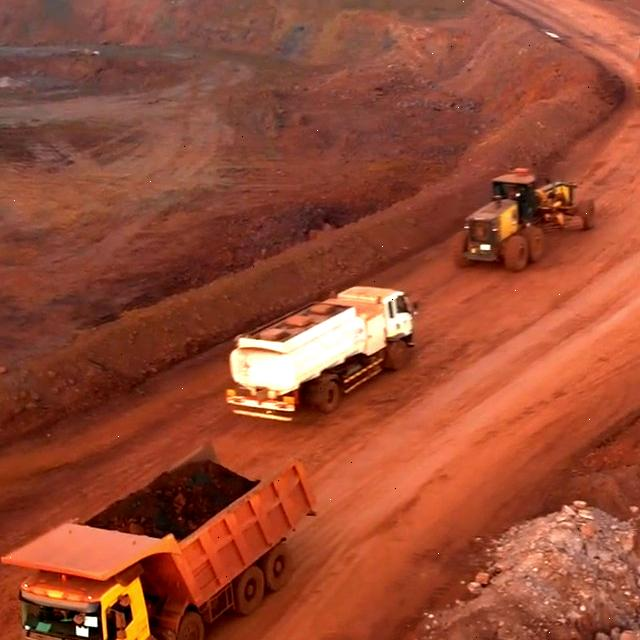Dumper truck: (15, 544, 148, 640)
